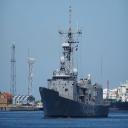Fragata: (40, 1, 113, 120)
